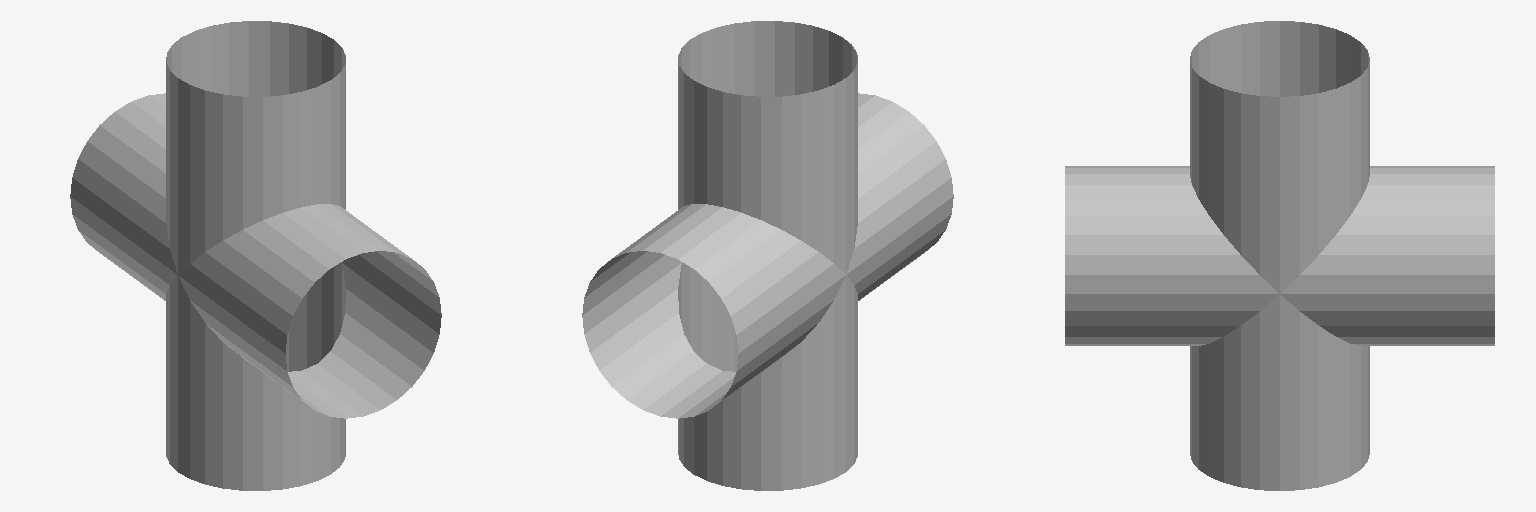
File: 4_JUNCTION.obj
3 views of the same model, side by side, from view 1: azimuth 30°, elevation 25°; view 2: azimuth 150°, elevation 25°; view 3: azimuth 270°, elevation 25° (orthographic).
Visible parts, largest first — view 1: 4_JUNCTION; view 2: 4_JUNCTION; view 3: 4_JUNCTION.
Part boxes in pixels (x1,y1,x2,y2): 4_JUNCTION: (70, 21, 441, 490); 4_JUNCTION: (582, 21, 953, 490); 4_JUNCTION: (1065, 21, 1494, 490).
Size of the model in its own units: 3.18 by 7.66 by 7.58.